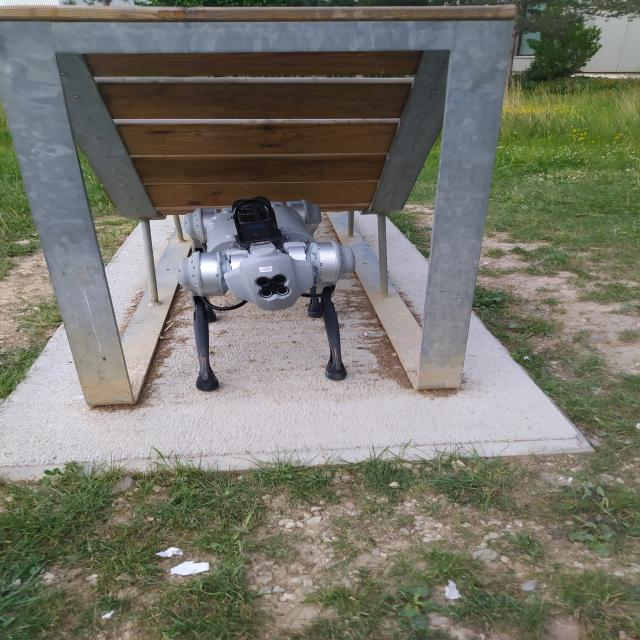unitree-go1-robot: (158, 185, 386, 400)
